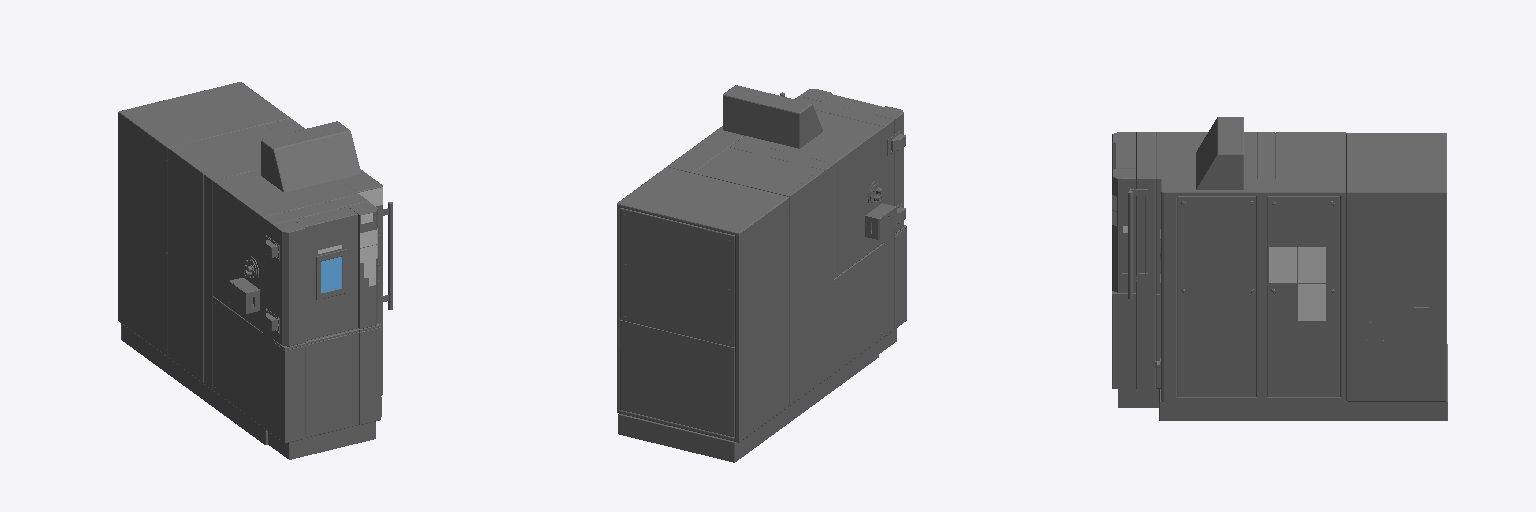
The model's file is 06GDWQYX.obj.
3 views of the same model, side by side, from view 1: azimuth 30°, elevation 25°; view 2: azimuth 150°, elevation 25°; view 3: azimuth 270°, elevation 25° (orthographic).
Visible parts, largest first — view 1: Metal_02, Metal_Black, Metal_Blue, Tex, Metal_03, Glass; view 2: Metal_02, Metal_Black, Metal_Blue, PartA_01, Metal_03; view 3: Metal_02, Metal_Blue, Metal_Black, Tex, PartA_01.
Boxes of the visible parts, box(x1,y1,x2,y2) form: Metal_02: box(118, 82, 392, 442); Metal_Black: box(166, 160, 379, 433); Metal_Blue: box(121, 323, 381, 459); Tex: box(318, 187, 382, 286); Metal_03: box(245, 235, 380, 349); Glass: box(321, 257, 341, 292); Metal_02: box(617, 85, 906, 442); Metal_Black: box(624, 96, 894, 379); Metal_Blue: box(618, 328, 896, 462); PartA_01: box(723, 96, 798, 148); Metal_03: box(868, 130, 906, 235); Metal_02: box(1112, 117, 1446, 401); Metal_Blue: box(1118, 344, 1447, 420); Metal_Black: box(1136, 132, 1427, 388); Tex: box(1112, 195, 1325, 320); PartA_01: box(1194, 219, 1392, 394).
Size of the model in its own units: 49.49 by 90.58 by 104.